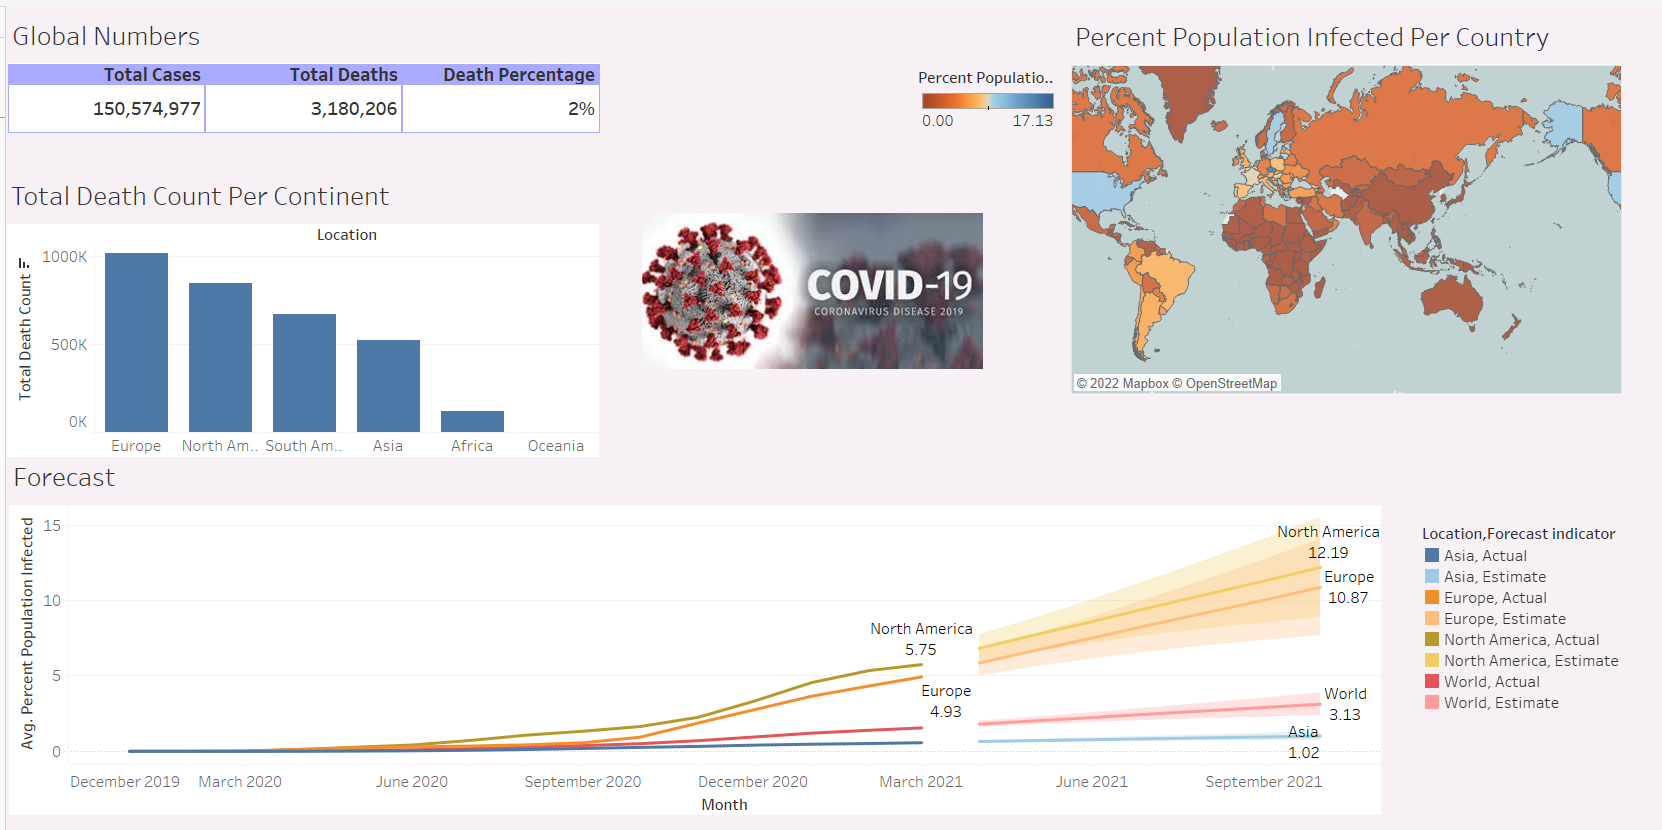

The dashboard page shown, as its layout file describes it:
{"tool":"tableau","page":{"name":"Dashboard 1","canvas":[1000,1000],"units":"permille","ordinal":0},"visuals":[{"type":"worksheet","title":"Global Numbers","mark":"Text","box":[1.1,9.4,417.9,196.2]},{"type":"worksheet","title":"Percent Population Infected Per Country","mark":"Automatic","box":[643,10.6,332.6,445.4]},{"type":"legend","title":"Percent Population Infected Per Country","param":"[federated.0rmvcvp1v9dmkl1988j5f1trxt5e].[sum:PercentPopulationInfected:qk]","box":[550.3,71.7,84.8,108.1]},{"type":"worksheet","title":"Total Death Count Per Continent","mark":"Bar","rows":["TotalDeathCount"],"cols":["location"],"box":[0.5,197.4,357.5,332.6]},{"type":"image","param":"Image/download.jpeg","box":[384,243.2,205.5,232.7]},{"type":"worksheet","title":"Forecast","mark":"Automatic","rows":["PercentPopulationInfected"],"cols":["date"],"box":[1.8,527.6,828,423]},{"type":"legend","title":"Forecast","param":"[federated.14z3jmf06cp3bm13zl7hb08s68w9].[none:Location:nk]\n[federated.14z3jmf06","box":[854.3,607.5,121.8,320.8]}]}

Visuals, with their boxes on the dashboard's canvas, which has no fixed pixel size, in thousandths of its width and height (x1, y1, x2, y2). These are canvas units, not pixel positions in the 1662x830 screenshot, which may show the page scaled, cropped or inside an application window:
"Global Numbers" worksheet (Text marks): pyautogui.locateOnScreen(1, 9, 419, 206)
"Percent Population Infected Per Country" worksheet: pyautogui.locateOnScreen(643, 11, 976, 456)
"Percent Population Infected Per Country" legend: pyautogui.locateOnScreen(550, 72, 635, 180)
"Total Death Count Per Continent" worksheet (Bar marks): pyautogui.locateOnScreen(0, 197, 358, 530)
image: pyautogui.locateOnScreen(384, 243, 590, 476)
"Forecast" worksheet: pyautogui.locateOnScreen(2, 528, 830, 951)
"Forecast" legend: pyautogui.locateOnScreen(854, 608, 976, 928)
